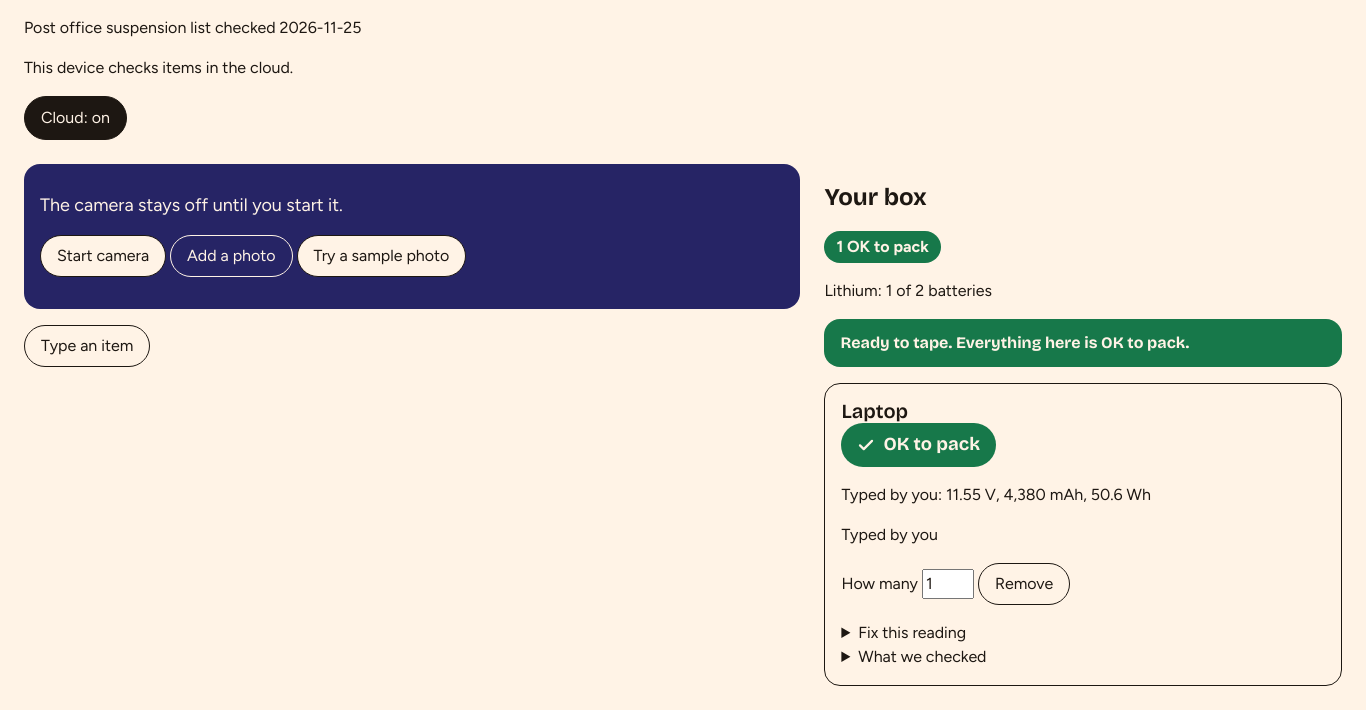
PackPage › re-judges the box when the sender changes how many, across the lithium limit and back, and removes an item
(page scrolled)
Expected: the element with test id "verdict-chip" reads "OK to pack", top-left (883, 434), bottom-right (980, 456)
Replace the text in the number field labelled "How many" with "3": (948, 584) top-left (922, 569), bottom-right (974, 599)
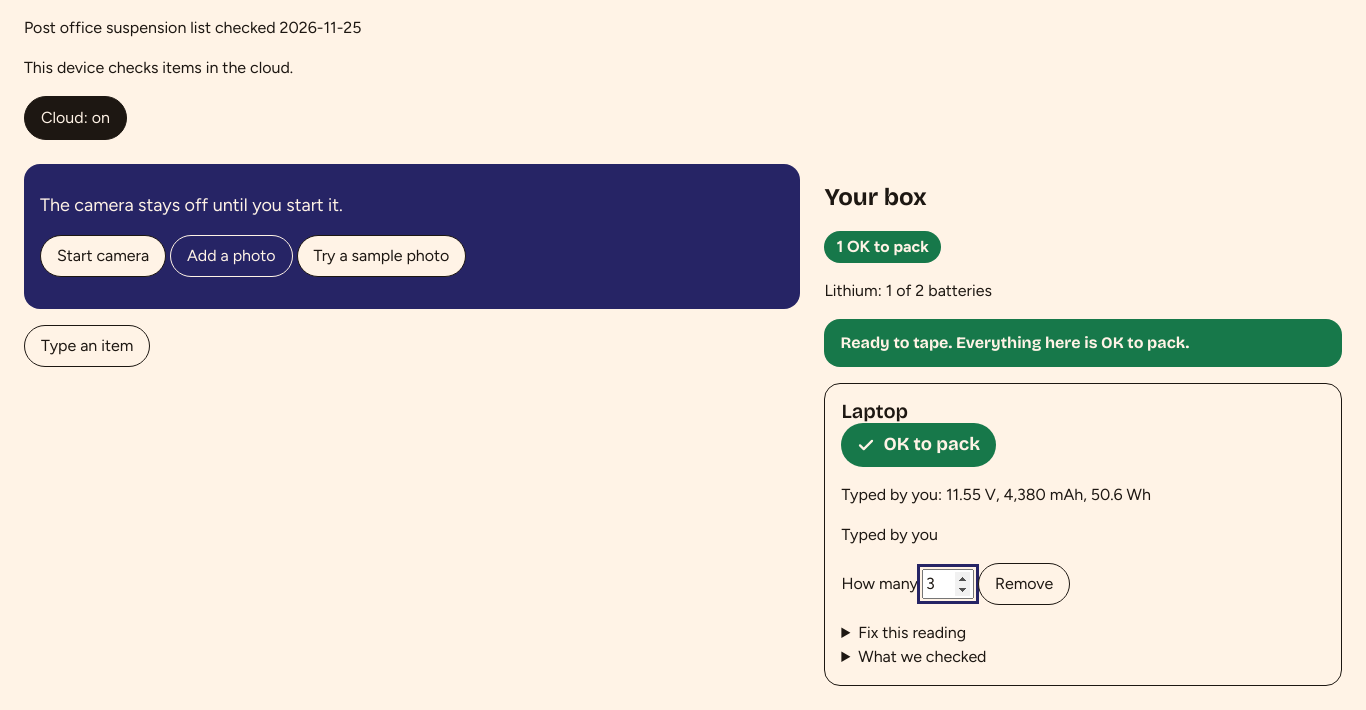
Press Tab
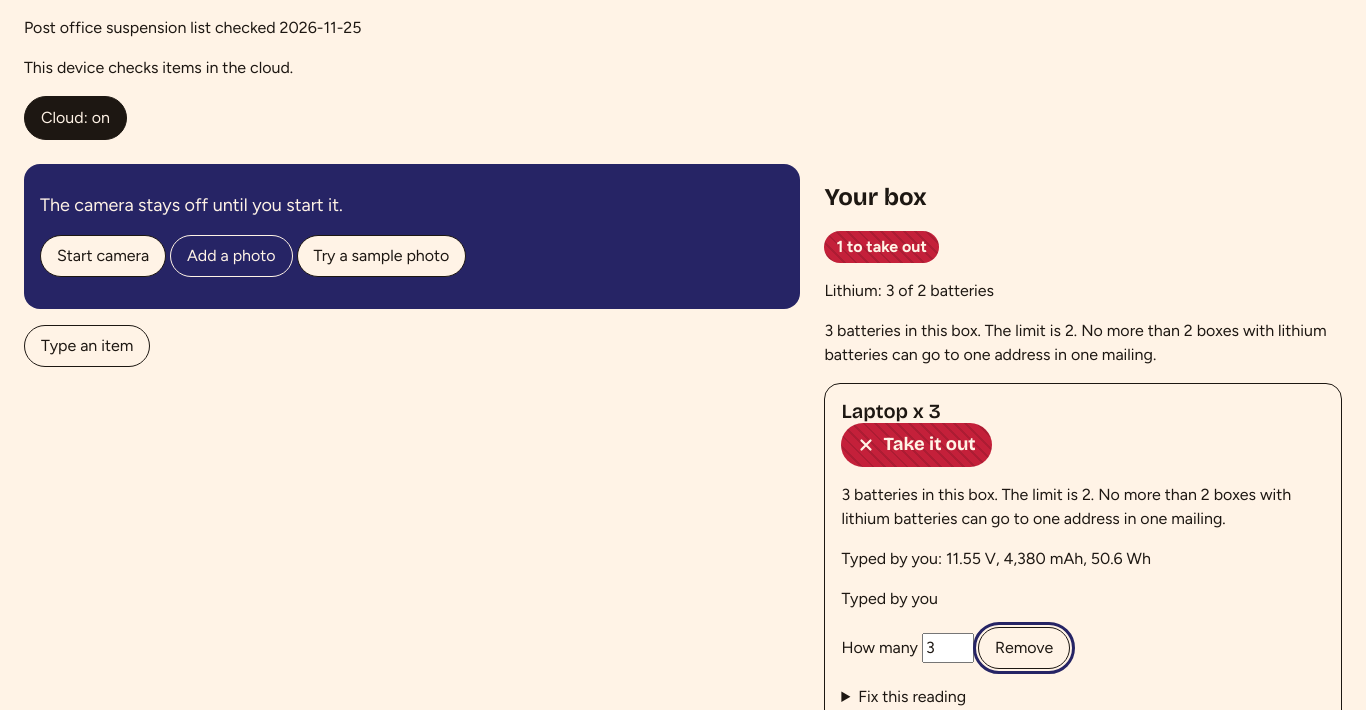
Expected: the element with test id "verdict-chip" reads "Take it out", top-left (883, 434), bottom-right (976, 456)
Expected: the element with test id "box-summary" shows "1 to take out", top-left (824, 184), bottom-right (1342, 368)
Replace the text in the number field labelled "How many" with "1": (948, 648) top-left (922, 633), bottom-right (974, 663)
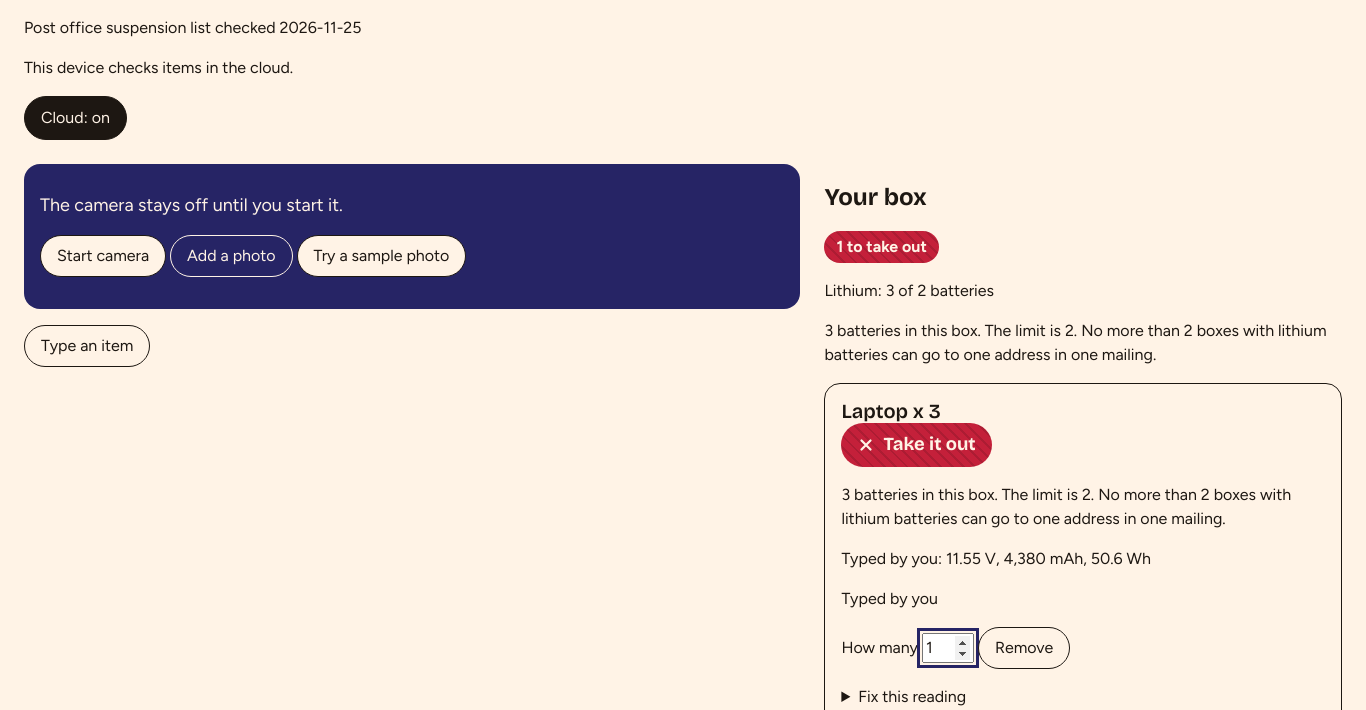
Press Tab
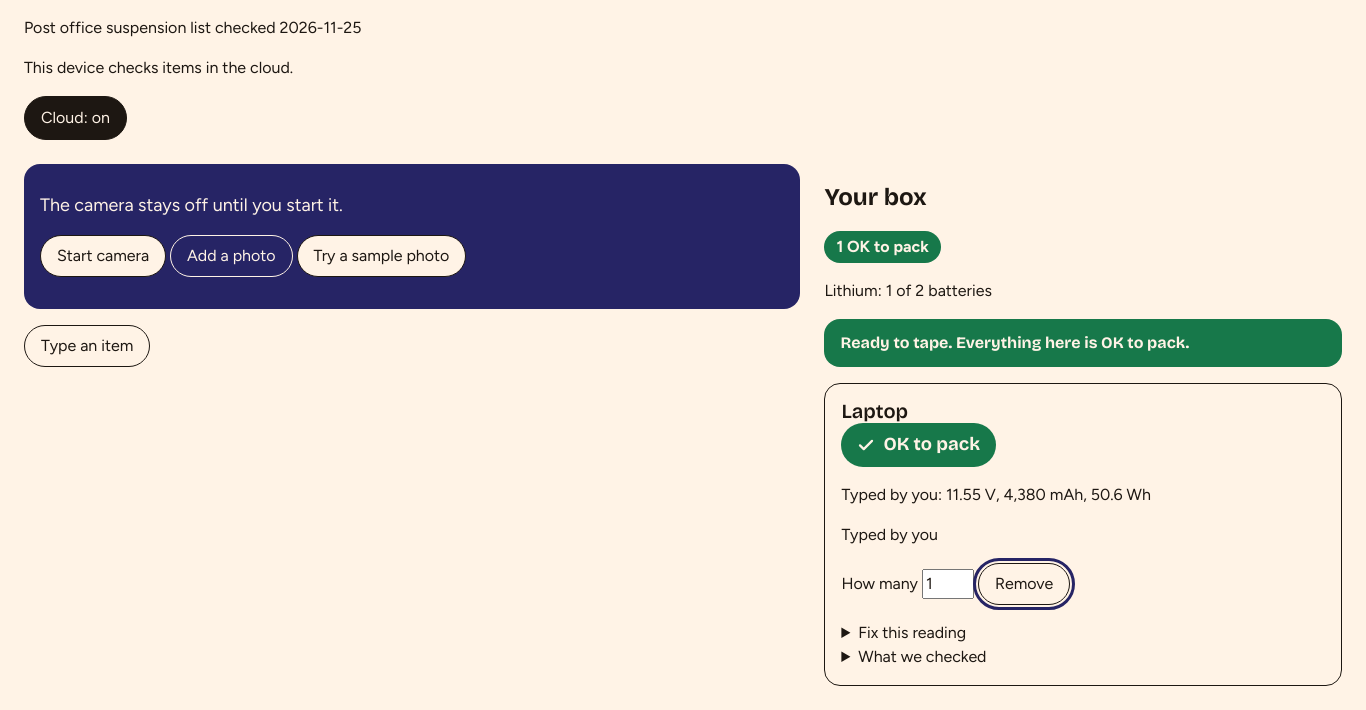
Expected: the element with test id "verdict-chip" reads "OK to pack", top-left (883, 434), bottom-right (980, 456)
Click the button "Remove ": (1024, 584) top-left (978, 563), bottom-right (1070, 605)
(page scrolled)
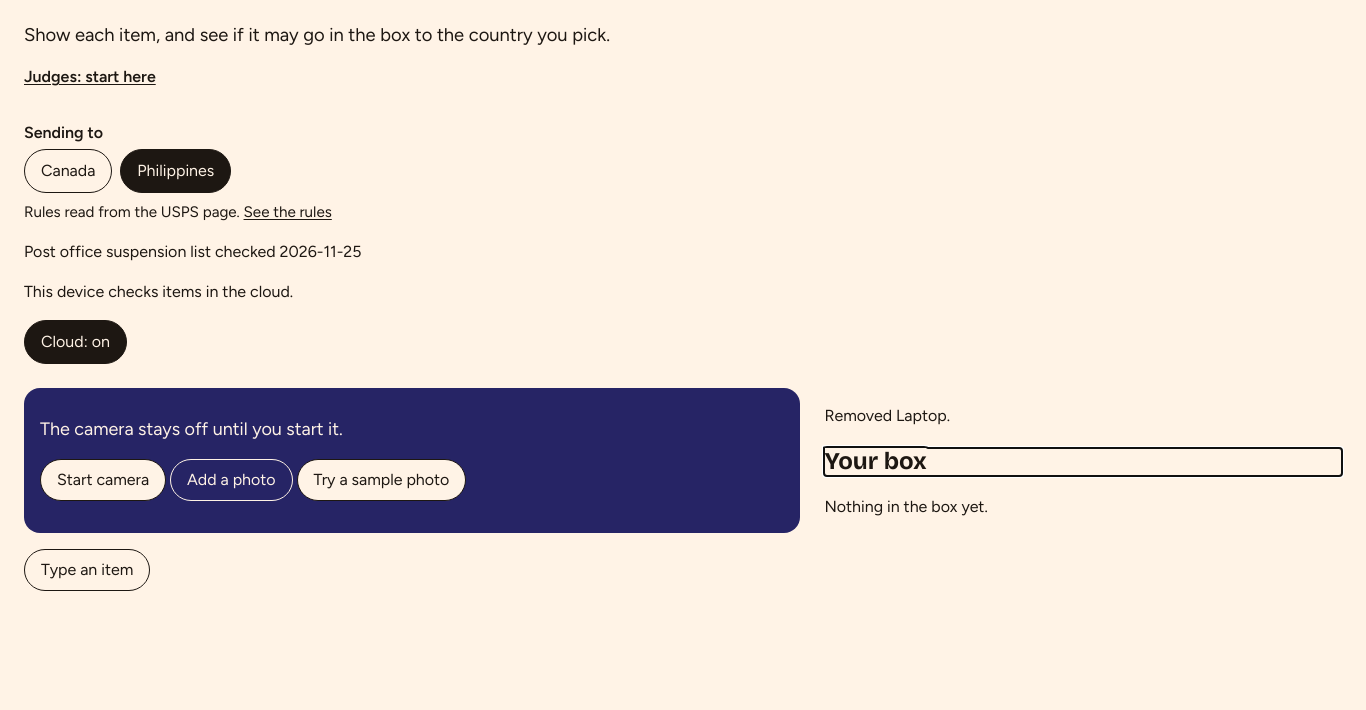
Expected: the element with test id "item-card" is gone
